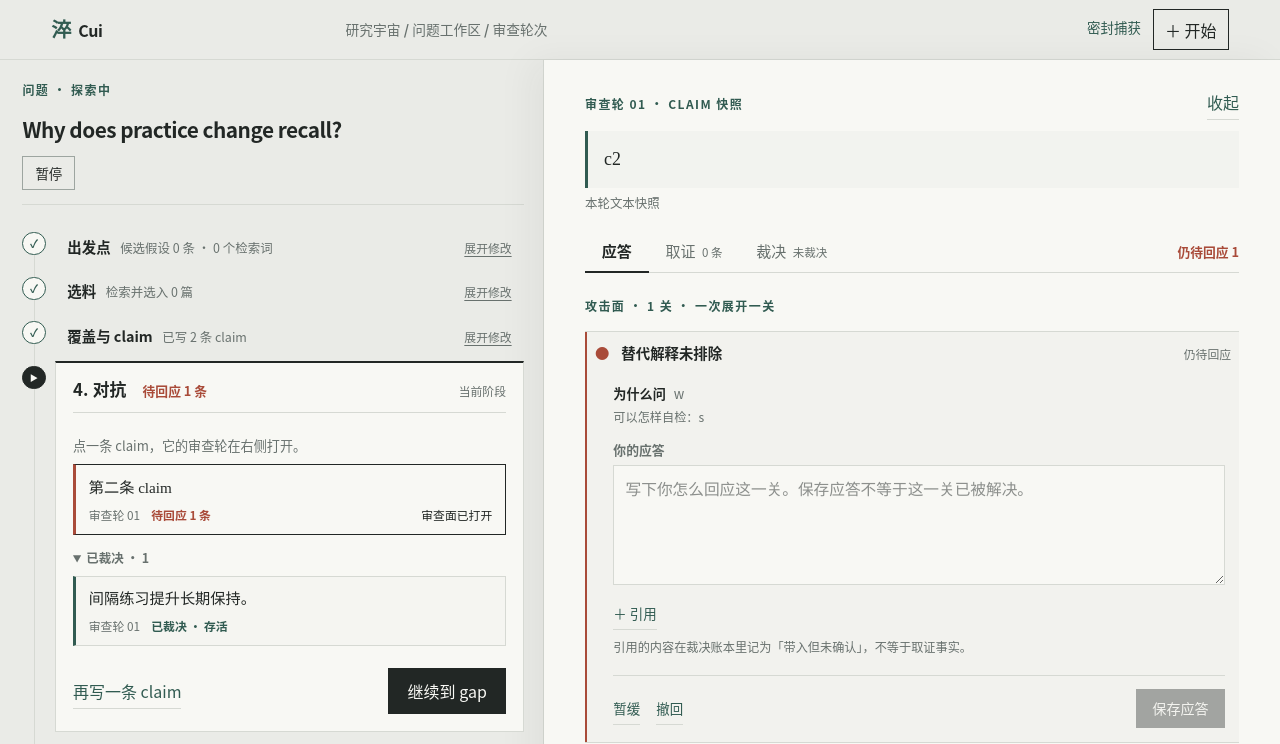
gap stage: one path (S5) › on 对抗 the round still closes with 收起; 「继续到 gap」 swaps the open round for the 现状 panel
Check: the heading "4. 对抗" is shown, box top-left (73, 377), bottom-right (127, 402)
Check: the button "收起" is shown, box top-left (1207, 84), bottom-right (1239, 120)
Click the button "继续到 gap".
click(447, 691)  # box top-left (388, 668), bottom-right (506, 714)
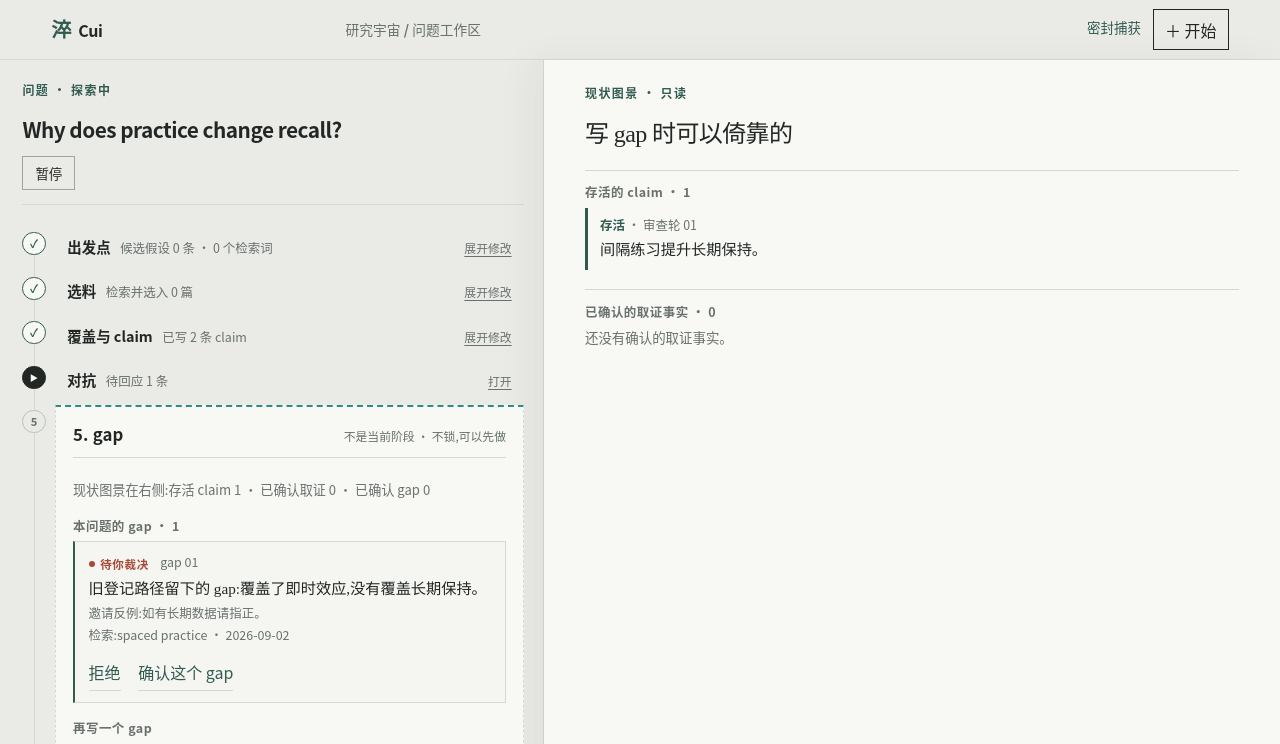
Check: the heading "写 gap 时可以倚靠的" is shown, box top-left (585, 121), bottom-right (792, 147)
Check: the heading "5. gap" is shown, box top-left (73, 422), bottom-right (124, 447)
